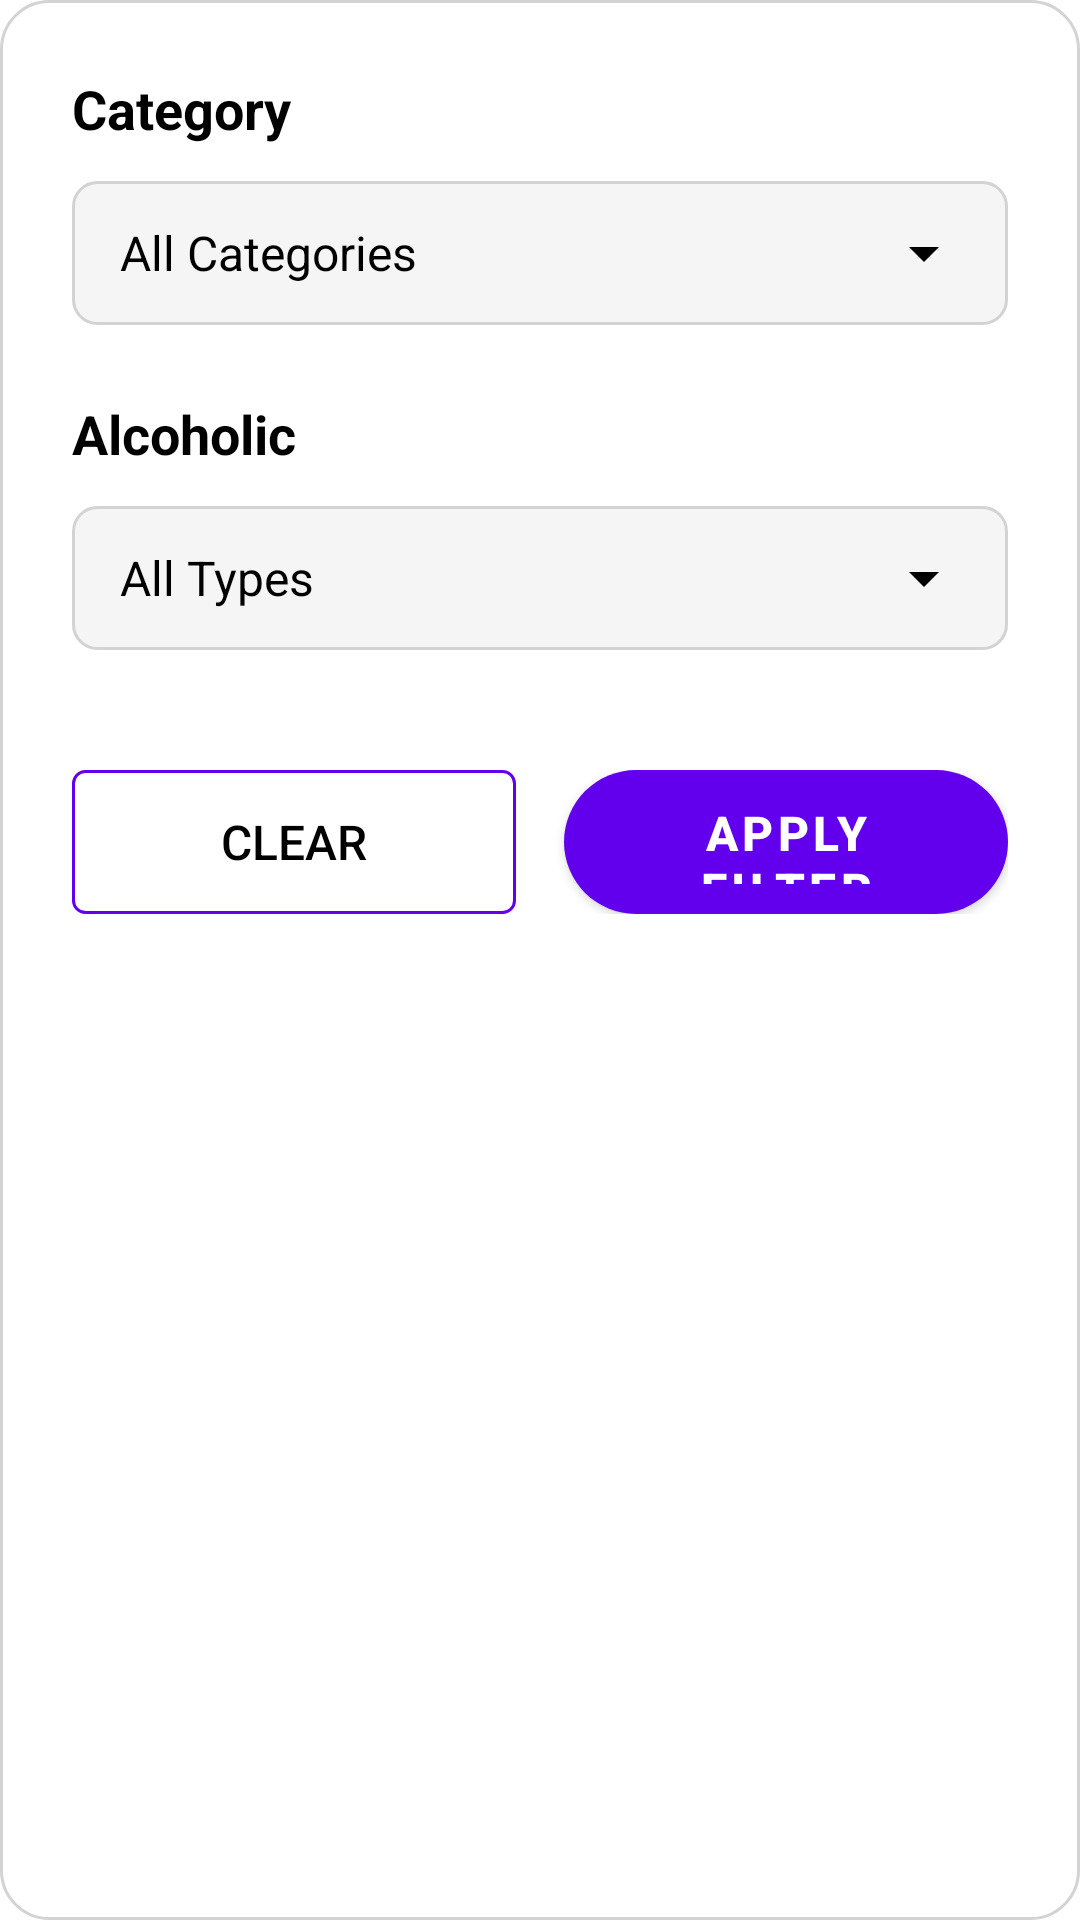

Icons on this 1080x1920 Android screen, each with the point to tap as point (x, y):
arrow drop down: point (924, 254), point (924, 579)
